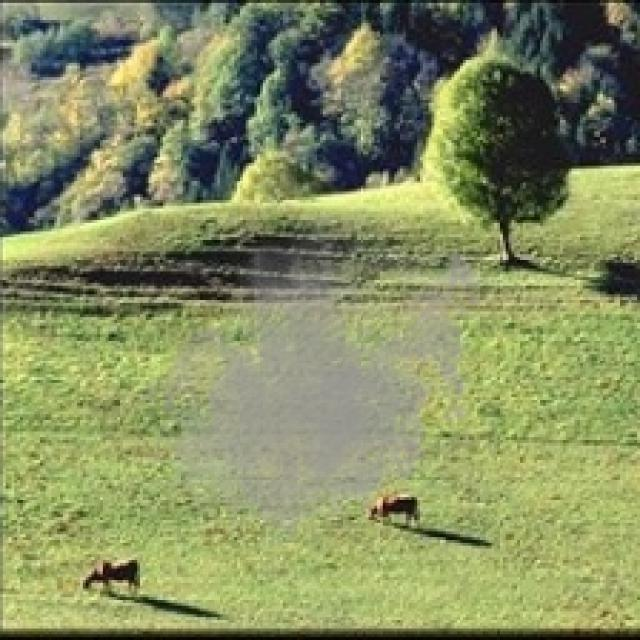smoke: (137, 189, 492, 557)
